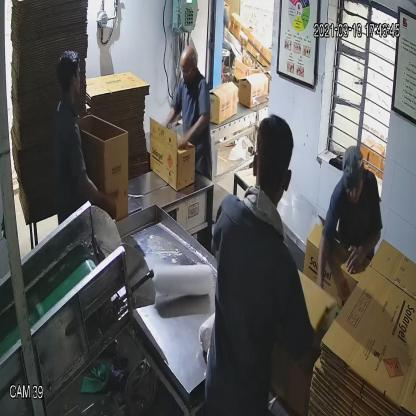no_glove: (68, 157, 119, 219), (346, 229, 384, 277), (312, 226, 336, 299), (172, 112, 210, 152)
